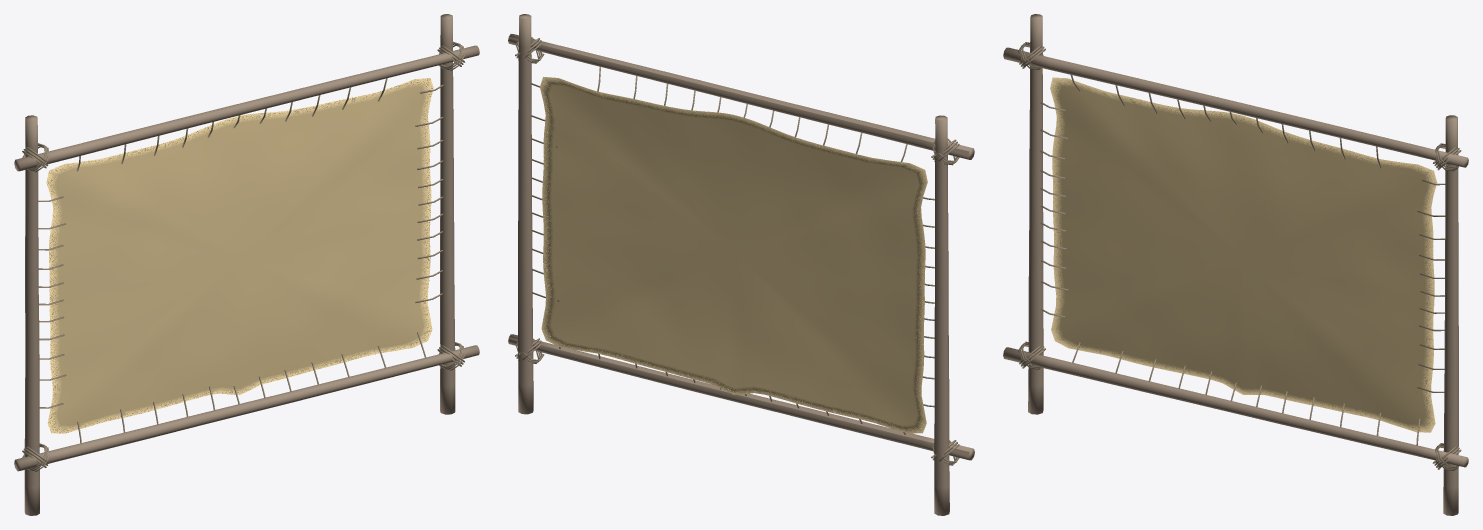
The model's file is Info Hide 4000 TH.fbx.
3 renders of one model, left to right at view 1: azimuth 30°, elevation 25°; view 2: azimuth 150°, elevation 25°; view 3: azimuth 330°, elevation 25°, orthographic.
Visible parts, largest first — view 1: Hide_Mesh, Bar_Top_Mesh, Bar_Bottom_Mesh, Pole_L_Mesh, Pole_R_Mesh; view 2: Hide_Mesh, Bar_Top_Mesh, Pole_L_Mesh, Pole_R_Mesh, Bar_Bottom_Mesh; view 3: Hide_Mesh, Bar_Top_Mesh, Bar_Bottom_Mesh, Pole_R_Mesh, Pole_L_Mesh.
Part boxes in pixels (x1,y1,x2,y2): Hide_Mesh: (38,78,443,443); Bar_Top_Mesh: (14,41,479,172); Bar_Bottom_Mesh: (14,342,479,472); Pole_L_Mesh: (24,115,39,515); Pole_R_Mesh: (440,14,455,414); Hide_Mesh: (531,67,934,434); Bar_Top_Mesh: (508,34,974,165); Pole_L_Mesh: (934,115,949,515); Pole_R_Mesh: (518,14,533,414); Bar_Bottom_Mesh: (508,334,974,465); Hide_Mesh: (1040,75,1445,445); Bar_Top_Mesh: (1003,42,1468,171); Bar_Bottom_Mesh: (1003,341,1468,470); Pole_R_Mesh: (1443,115,1458,515); Pole_L_Mesh: (1028,14,1043,414).
Size of the model in its own units: 3.31 by 2.71 by 0.1941.
